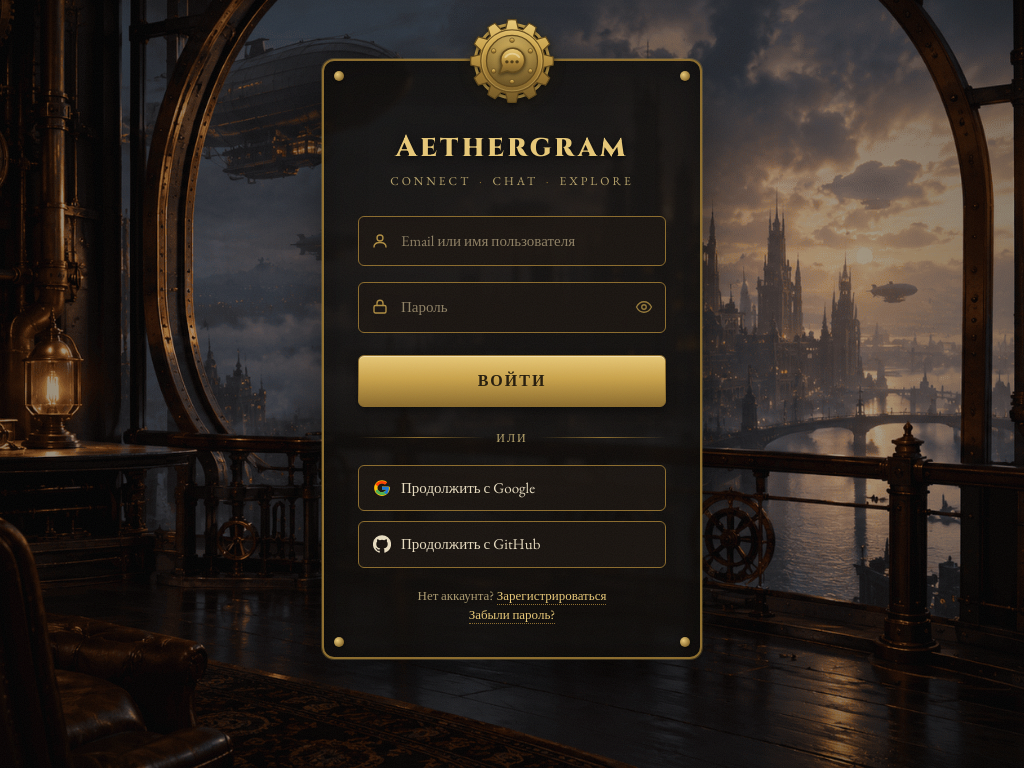
it: LoginPage SSO › shows «Слишком много попыток — попробуйте позже» on 429 without retryAfterSec (T048)
Click the button "Продолжить с Google": (512, 488) [358,465,666,511]
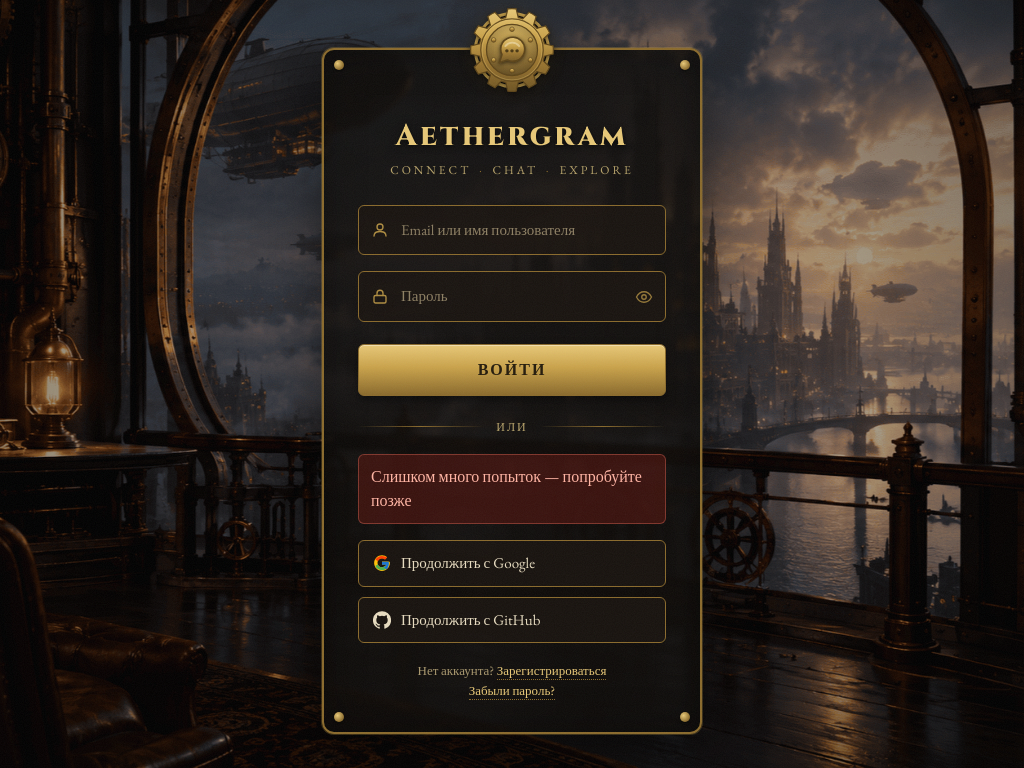
Now the message reads "Слишком много попыток — попробуйте позже", box [371,466,642,511]
